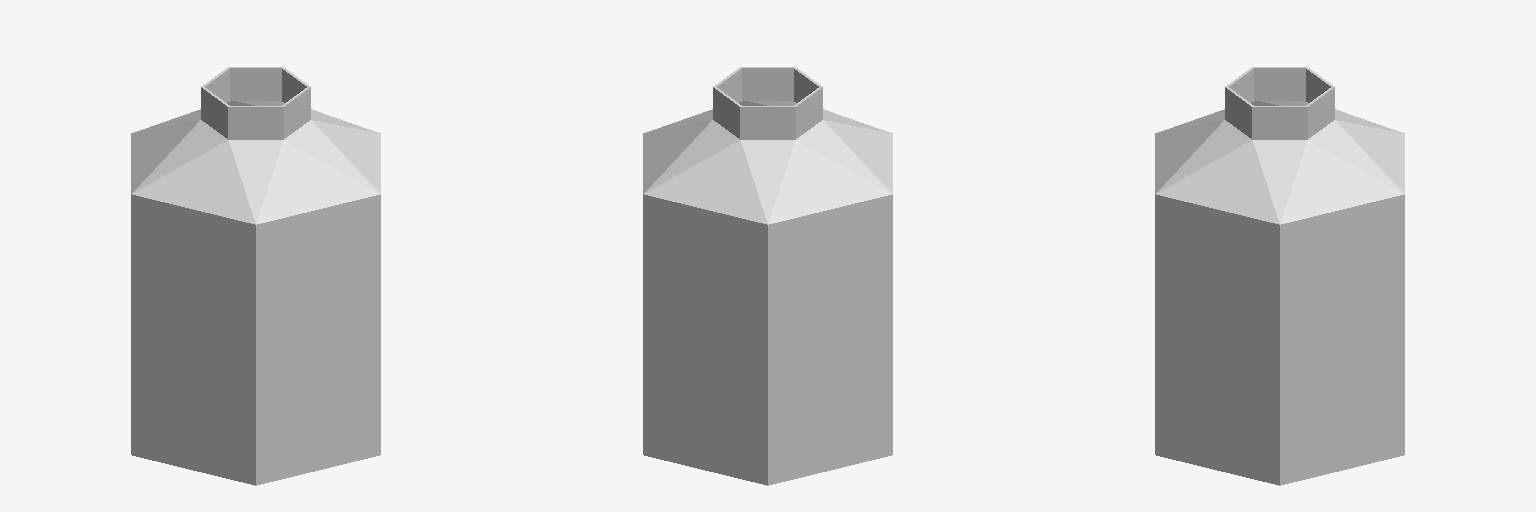
File: WashBottle.obj
3 renders of one model, left to right at view 1: azimuth 30°, elevation 25°; view 2: azimuth 150°, elevation 25°; view 3: azimuth 270°, elevation 25°, orthographic.
Visible parts, largest first — view 1: Mesh1 Model; view 2: Mesh1 Model; view 3: Mesh1 Model.
Part boxes in pixels (x1,y1,x2,y2): Mesh1 Model: (131,67,380,485); Mesh1 Model: (643,67,892,485); Mesh1 Model: (1155,67,1404,485).
Size of the model in its own units: 0.08 by 0.1036 by 0.0693.